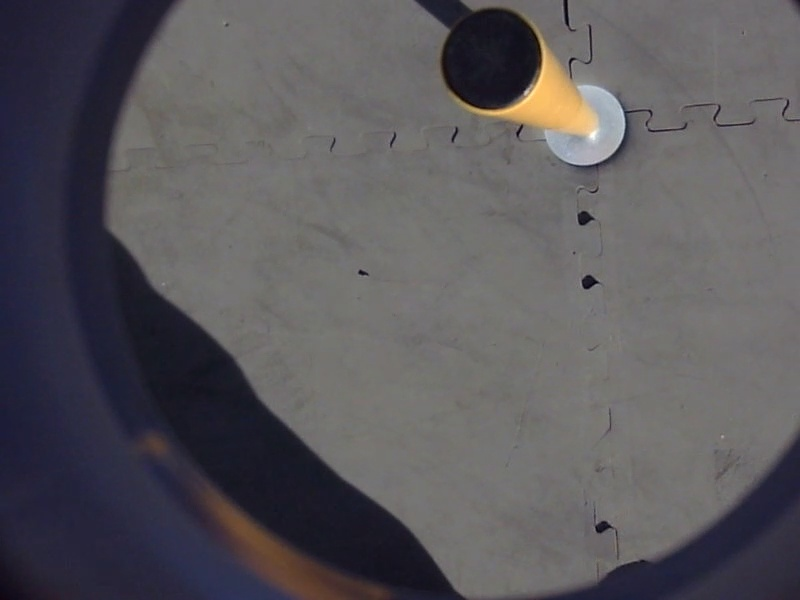tip: (434, 2, 552, 121)
